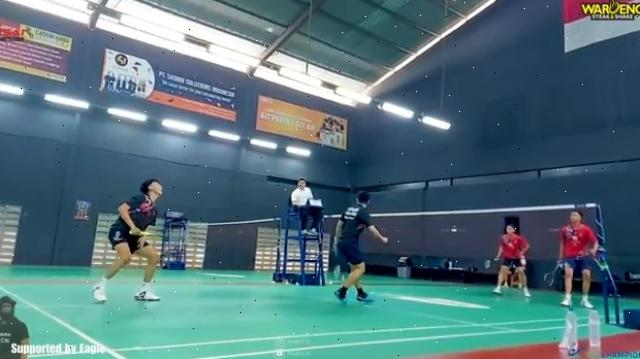Shuttlecock: (263, 22, 277, 34)
